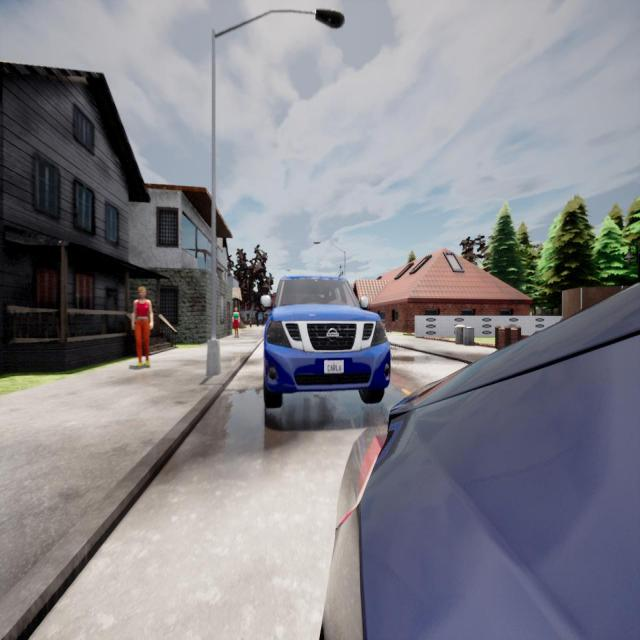Pedestrian: (131, 286, 154, 366), (231, 306, 240, 338)
Vehicle: (322, 285, 640, 640), (264, 277, 390, 407)
